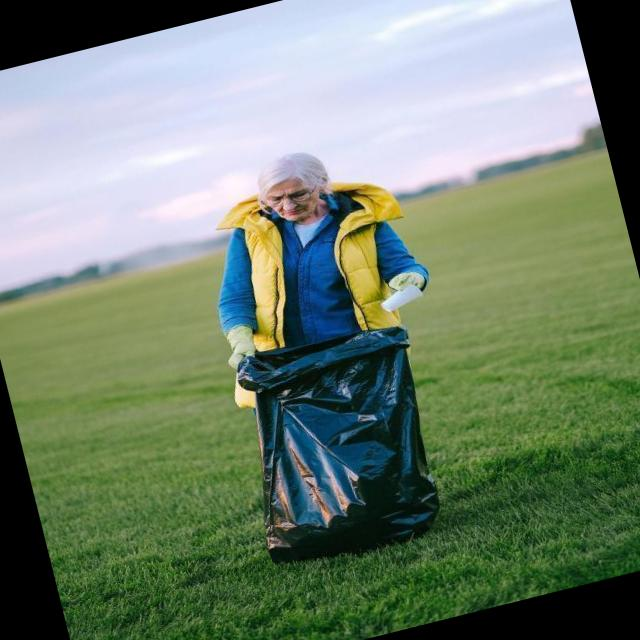KantongPlastik: (218, 314, 452, 568)
